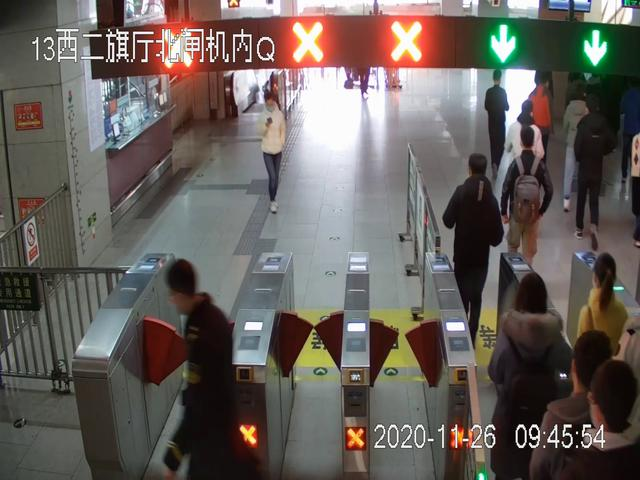person: (162, 258, 233, 480), (488, 275, 564, 480), (441, 153, 504, 347), (498, 126, 555, 293), (575, 100, 610, 249), (258, 88, 289, 214), (485, 69, 510, 183)
